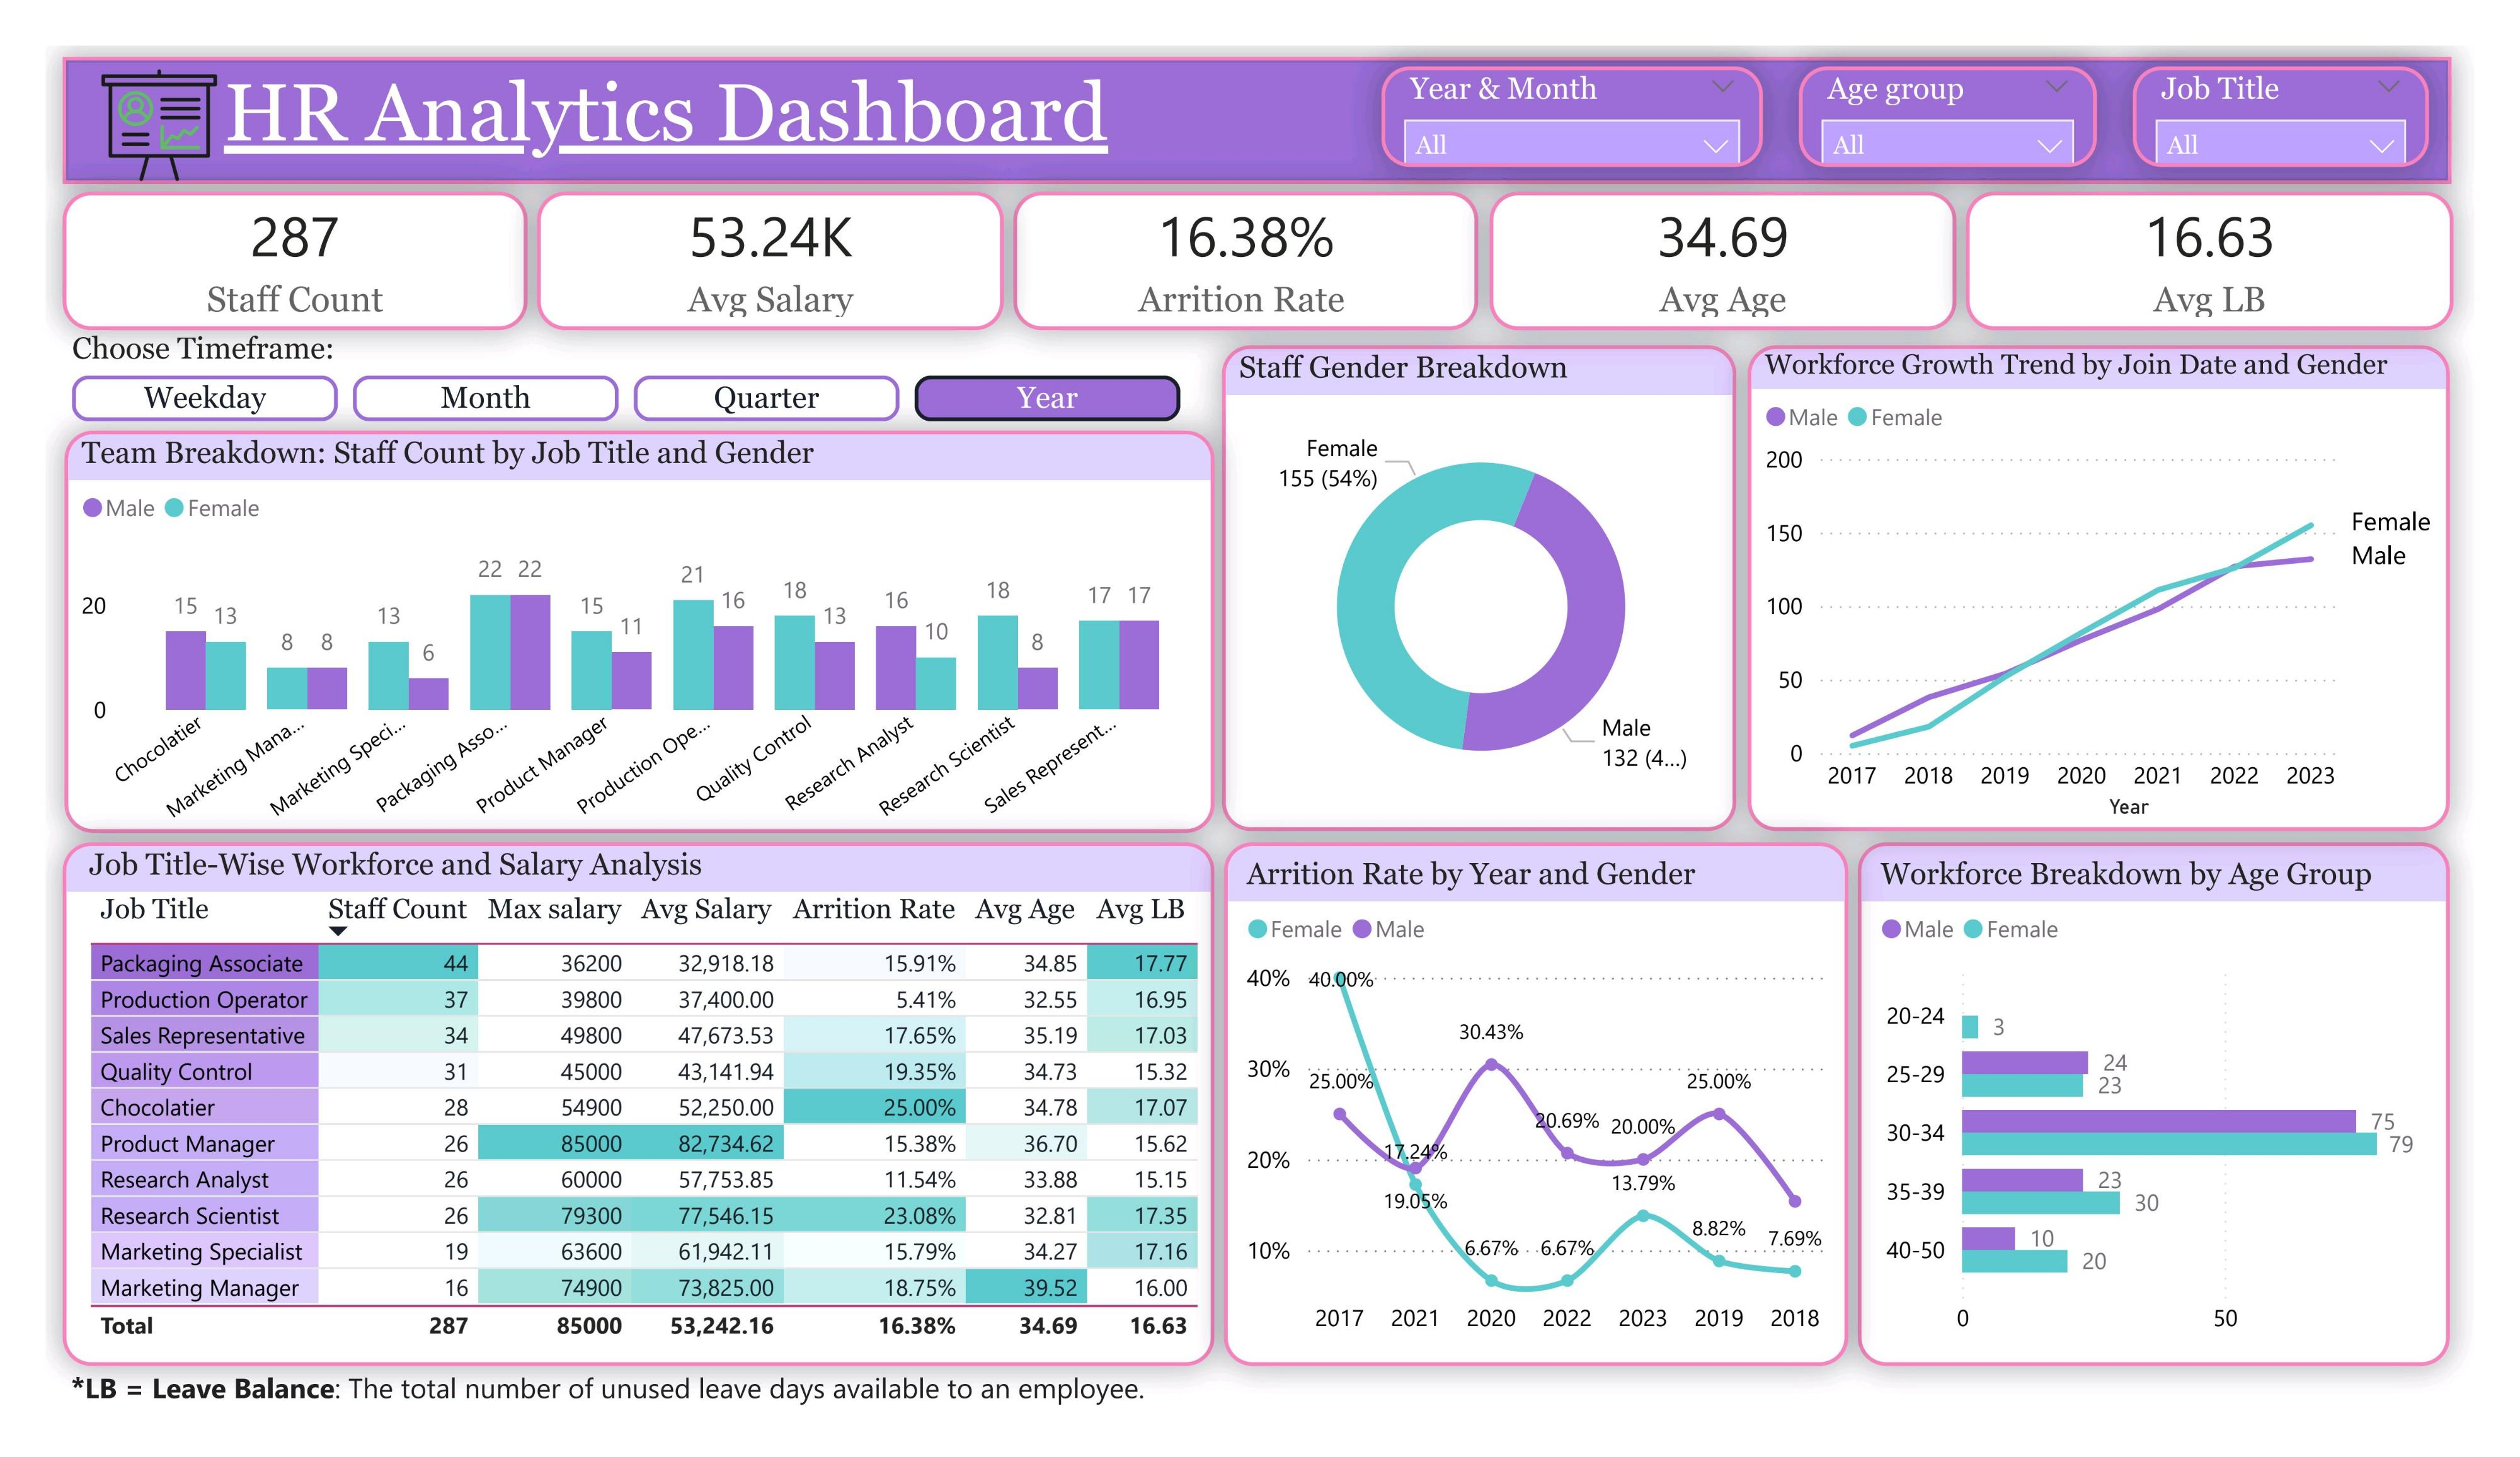

This screenshot's page, from the dashboard's own definition file:
{"tool":"powerbi","page":{"name":"HR Analytics Dashboard","canvas":[1280,720],"ordinal":0},"visuals":[{"type":"shape","box":[9.4,6.2,1258.2,67],"z":0},{"type":"card","fields":{"Values":["Measure.Head count1"]},"box":[9.4,76.9,245,73],"z":0,"group":"g1"},{"type":"card","fields":{"Values":["Measure.Arrition Rate 1"]},"box":[510.4,76.9,245.5,72.9],"z":1000,"group":"g1"},{"type":"donutChart","title":"Staff Gender Breakdown","fields":{"Category":["data.Gender"],"Y":["Measure.Head count"]},"box":[620.6,155.5,270.7,259.2],"z":1000},{"type":"card","fields":{"Values":["Measure.Avg Salary 1"]},"box":[259.8,76.9,245.5,72.9],"z":2000,"group":"g1"},{"type":"clusteredBarChart","title":"Workforce Breakdown by Age Group","fields":{"Category":["data.Age group"],"Series":["data.Gender"],"Y":["Measure.Head count"]},"box":[954.7,420.5,312.5,275],"z":2000},{"type":"card","fields":{"Values":["Measure.Avg Age 1"]},"box":[761,76.9,246.6,73.3],"z":3000,"group":"g1"},{"type":"lineChart","title":"Workforce Growth Trend by Join Date and Gender","fields":{"Category":["Date Table.Year"],"Series":["data.Gender"],"Y":["Measure.cumulitive headcount 3"]},"box":[897.1,155.5,370.1,259.2],"z":3000},{"type":"card","fields":{"Values":["Measure.Average leave balance 1"]},"box":[1012.7,76.9,256.5,72.9],"z":4000,"group":"g1"},{"type":"lineClusteredColumnComboChart","title":"Team Breakdown: Staff Count by Job Title and Gender","fields":{"Category":["data.Job Title"],"Series":["data.Gender"],"Y":["Measure.Head count1"]},"box":[10.1,203,606.2,211.7],"z":4000},{"type":"textbox","box":[89.3,5.8,570.2,72],"z":5000},{"type":"group","id":"g1","title":"Group 1","box":[9.4,76.9,1259.7,73.3],"z":6000},{"type":"textbox","box":[0,695.5,636.5,24.5],"z":7000},{"type":"tableEx","title":"Job Title-Wise Workforce and Salary Analysis","fields":{"Values":["data.Job Title","Measure.Head count1","Measure.Max salary 1","Measure.Avg Salary 1","Measure.Arrition Rate 1","Measure.Avg Age 1","Measure.Average leave balance 1"]},"box":[8.6,420.5,607.7,275],"z":8000},{"type":"slicer","title":"Choose Timeframe: Year & Month","fields":{"Values":["data.Date of Join.Variation.Date Hierarchy.Year"]},"box":[620.8,10.9,305.3,53.3],"z":9000},{"type":"slicer","fields":{"Values":["data.Age group"]},"box":[937.6,10.9,157,53.3],"z":10000},{"type":"slicer","fields":{"Values":["data.Job Title"]},"box":[1100.4,10.9,155.5,53.3],"z":11000},{"type":"lineChart","fields":{"Category":["Date Table.Year"],"Y":["Measure.Arrition Rate"],"Series":["data.Gender"]},"box":[620.6,420.5,329.8,275],"z":12000},{"type":"image","box":[5.8,0,108,83.5],"z":13000},{"type":"advancedSlicerVisual","title":"Choose Timeframe:","fields":{"Values":["Choose Timeframe.Choose Timeframe"]},"box":[9.4,149.7,597.1,53],"z":14000}]}

Visuals, with their boxes in screenshot pixels (x1, y1, x2, y2), scaled from the page's 1280x720 canvas onto the 2520x1457 screenshot:
shape: region(18, 13, 2495, 148)
card - Measure.Head count1: region(18, 156, 501, 304)
card - Measure.Arrition Rate 1: region(1005, 156, 1488, 303)
"Staff Gender Breakdown" donutChart: region(1222, 315, 1755, 839)
card - Measure.Avg Salary 1: region(512, 156, 995, 303)
"Workforce Breakdown by Age Group" clusteredBarChart: region(1879, 851, 2495, 1407)
card - Measure.Avg Age 1: region(1498, 156, 1984, 304)
"Workforce Growth Trend by Join Date and Gender" lineChart: region(1766, 315, 2495, 839)
card - Measure.Average leave balance 1: region(1994, 156, 2499, 303)
"Team Breakdown: Staff Count by Job Title and Gender" lineClusteredColumnComboChart: region(20, 411, 1213, 839)
textbox: region(176, 12, 1298, 157)
"Group 1" group: region(18, 156, 2499, 304)
textbox: region(0, 1407, 1253, 1456)
"Job Title-Wise Workforce and Salary Analysis" tableEx: region(17, 851, 1213, 1407)
"Choose Timeframe: Year & Month" slicer: region(1222, 22, 1823, 130)
slicer - data.Age group: region(1846, 22, 2155, 130)
slicer - data.Job Title: region(2167, 22, 2473, 130)
lineChart - Date Table.Year x Measure.Arrition Rate: region(1222, 851, 1871, 1407)
image: region(11, 0, 224, 169)
"Choose Timeframe:" advancedSlicerVisual: region(18, 303, 1194, 410)
